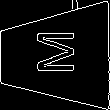M_W: (31, 33, 79, 79)
